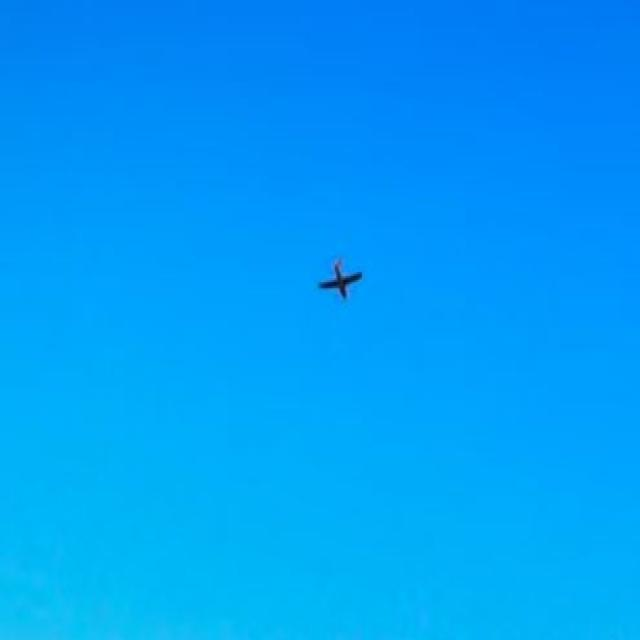iha: (316, 256, 363, 302)
